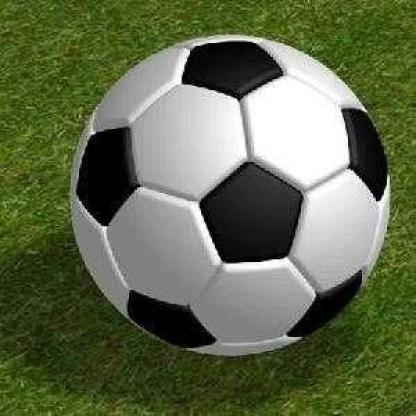ball: (71, 34, 391, 358)
